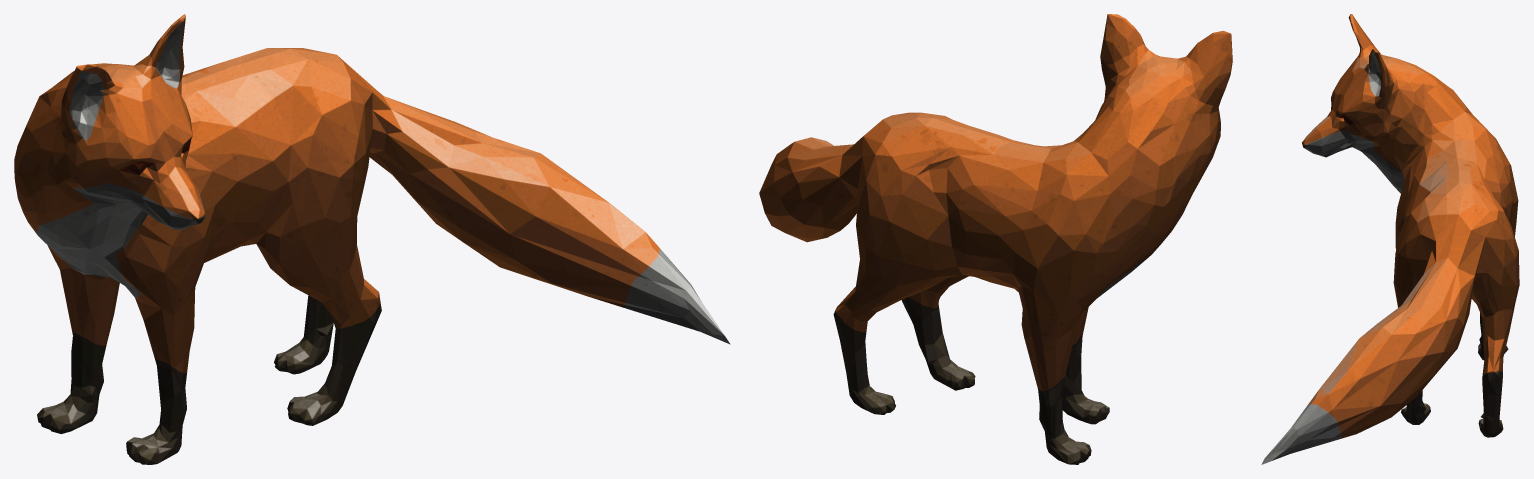
File: fox_model.fbx
3 renders of one model, left to right at view 1: azimuth 30°, elevation 25°; view 2: azimuth 150°, elevation 25°; view 3: azimuth 270°, elevation 25°, orthographic. The views are drawn at different scales.
Parts seen in each view (by area): view 1: node_id35; view 2: node_id35; view 3: node_id35.
Boxes of the visible parts, x1,y1,x2,y2 form: node_id35: (14,14,730,464); node_id35: (759,14,1232,464); node_id35: (1261,14,1519,464).
Bounding box in the file's own units: 0.512 × 0.3798 × 0.2814.
Materials: 1 (1 with a texture image).
